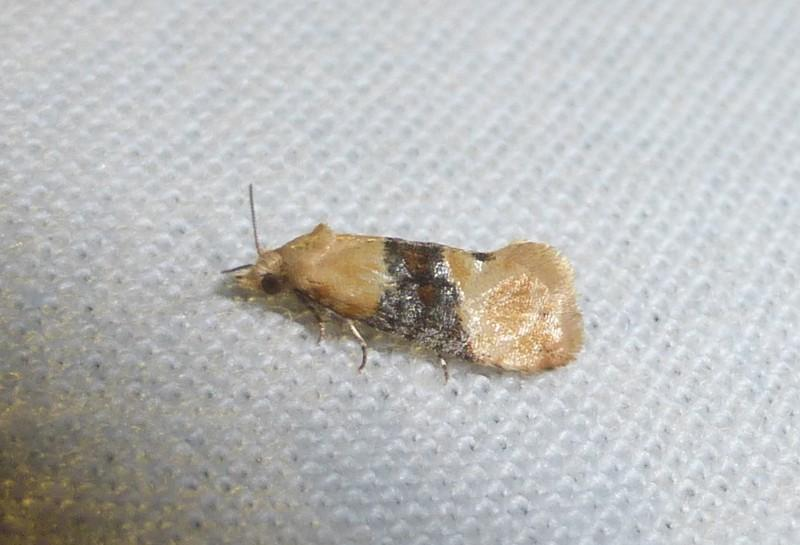Eupoecilia Ambiguella: (218, 181, 586, 382)
